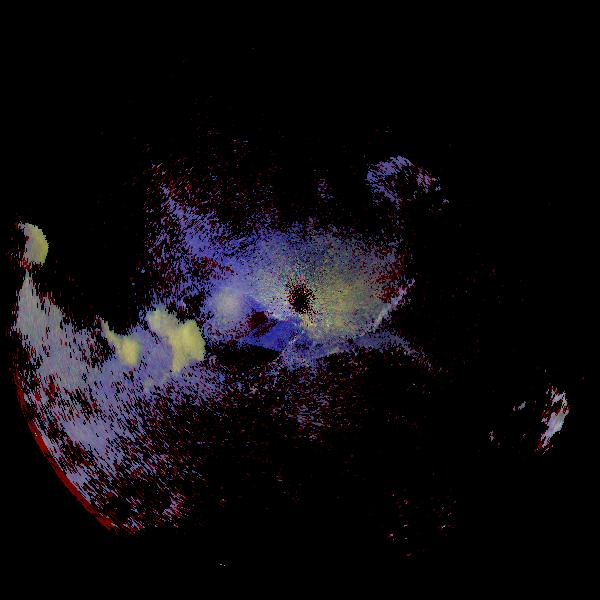roost: (99, 291, 219, 411)
